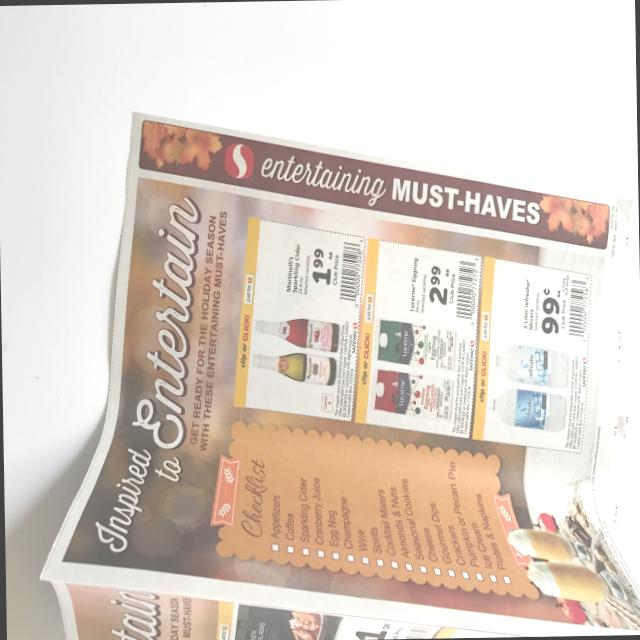Paper: (25, 107, 640, 640)
